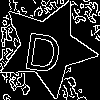D: (22, 23, 65, 73)
